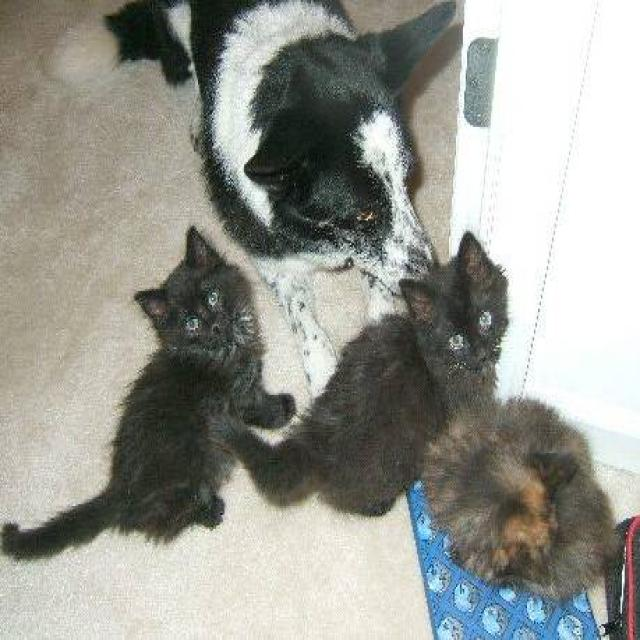cat: (102, 0, 460, 282), (0, 224, 296, 561), (398, 229, 624, 637)
